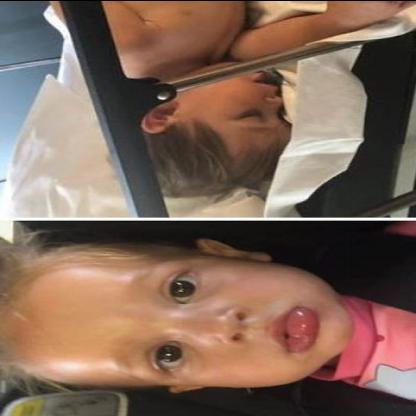Wasp: (284, 304, 324, 355)
